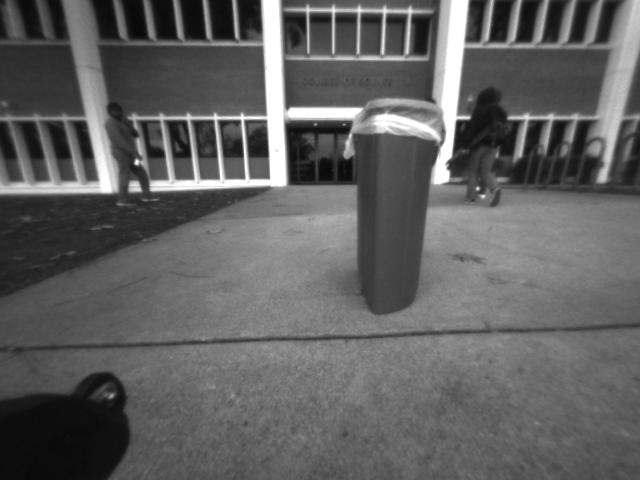trashcan: (346, 89, 454, 327)
